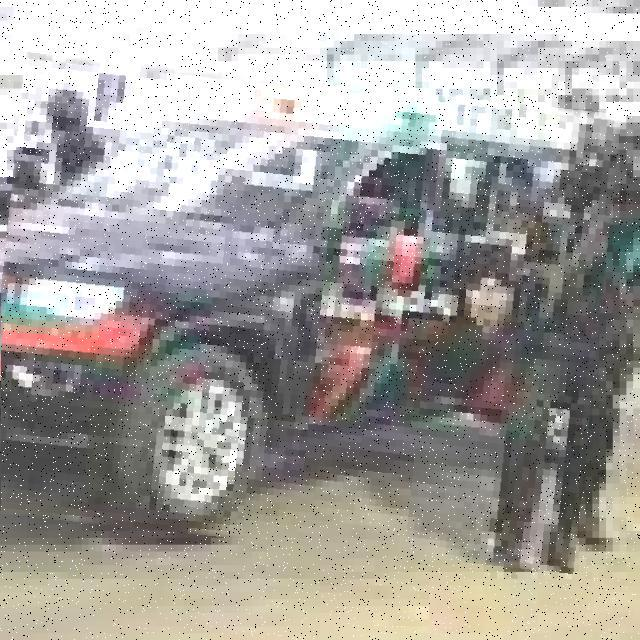police: (0, 66, 611, 559)
